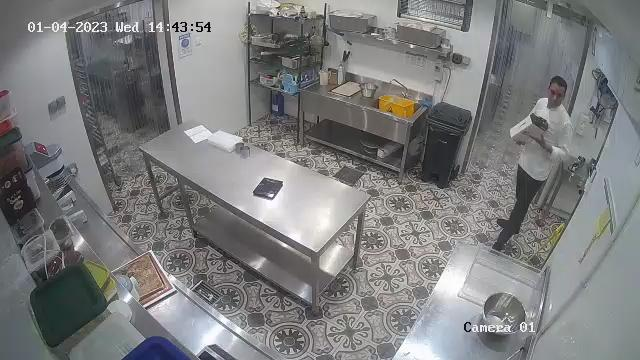no_apron: (515, 101, 565, 184)
